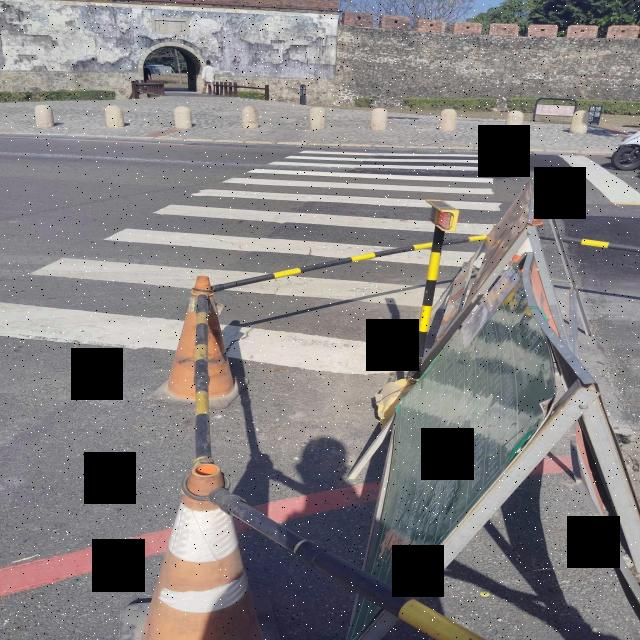zebra crossing: (0, 146, 501, 345), (223, 259, 435, 379)
